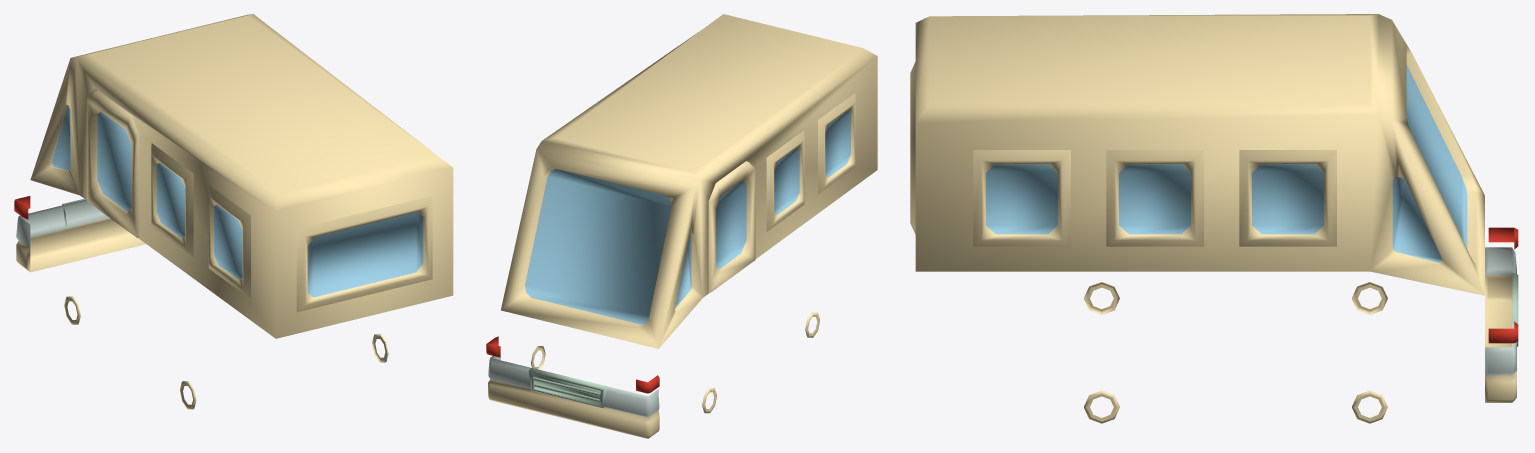
File: Car_01.fbx
3 views of the same model, side by side, from view 1: azimuth 30°, elevation 25°; view 2: azimuth 150°, elevation 25°; view 3: azimuth 270°, elevation 25° (orthographic). The views are drawn at different scales.
Visible parts, largest first — view 1: Van_ExpressA_T; view 2: Van_ExpressA_T; view 3: Van_ExpressA_T.
Boxes of the visible parts, x1,y1,x2,y2 form: Van_ExpressA_T: (14, 14, 453, 409); Van_ExpressA_T: (486, 14, 877, 438); Van_ExpressA_T: (910, 14, 1518, 423).
Size of the model in its own units: 74.35 by 103 by 173.
Materials: 1 (1 with a texture image).
